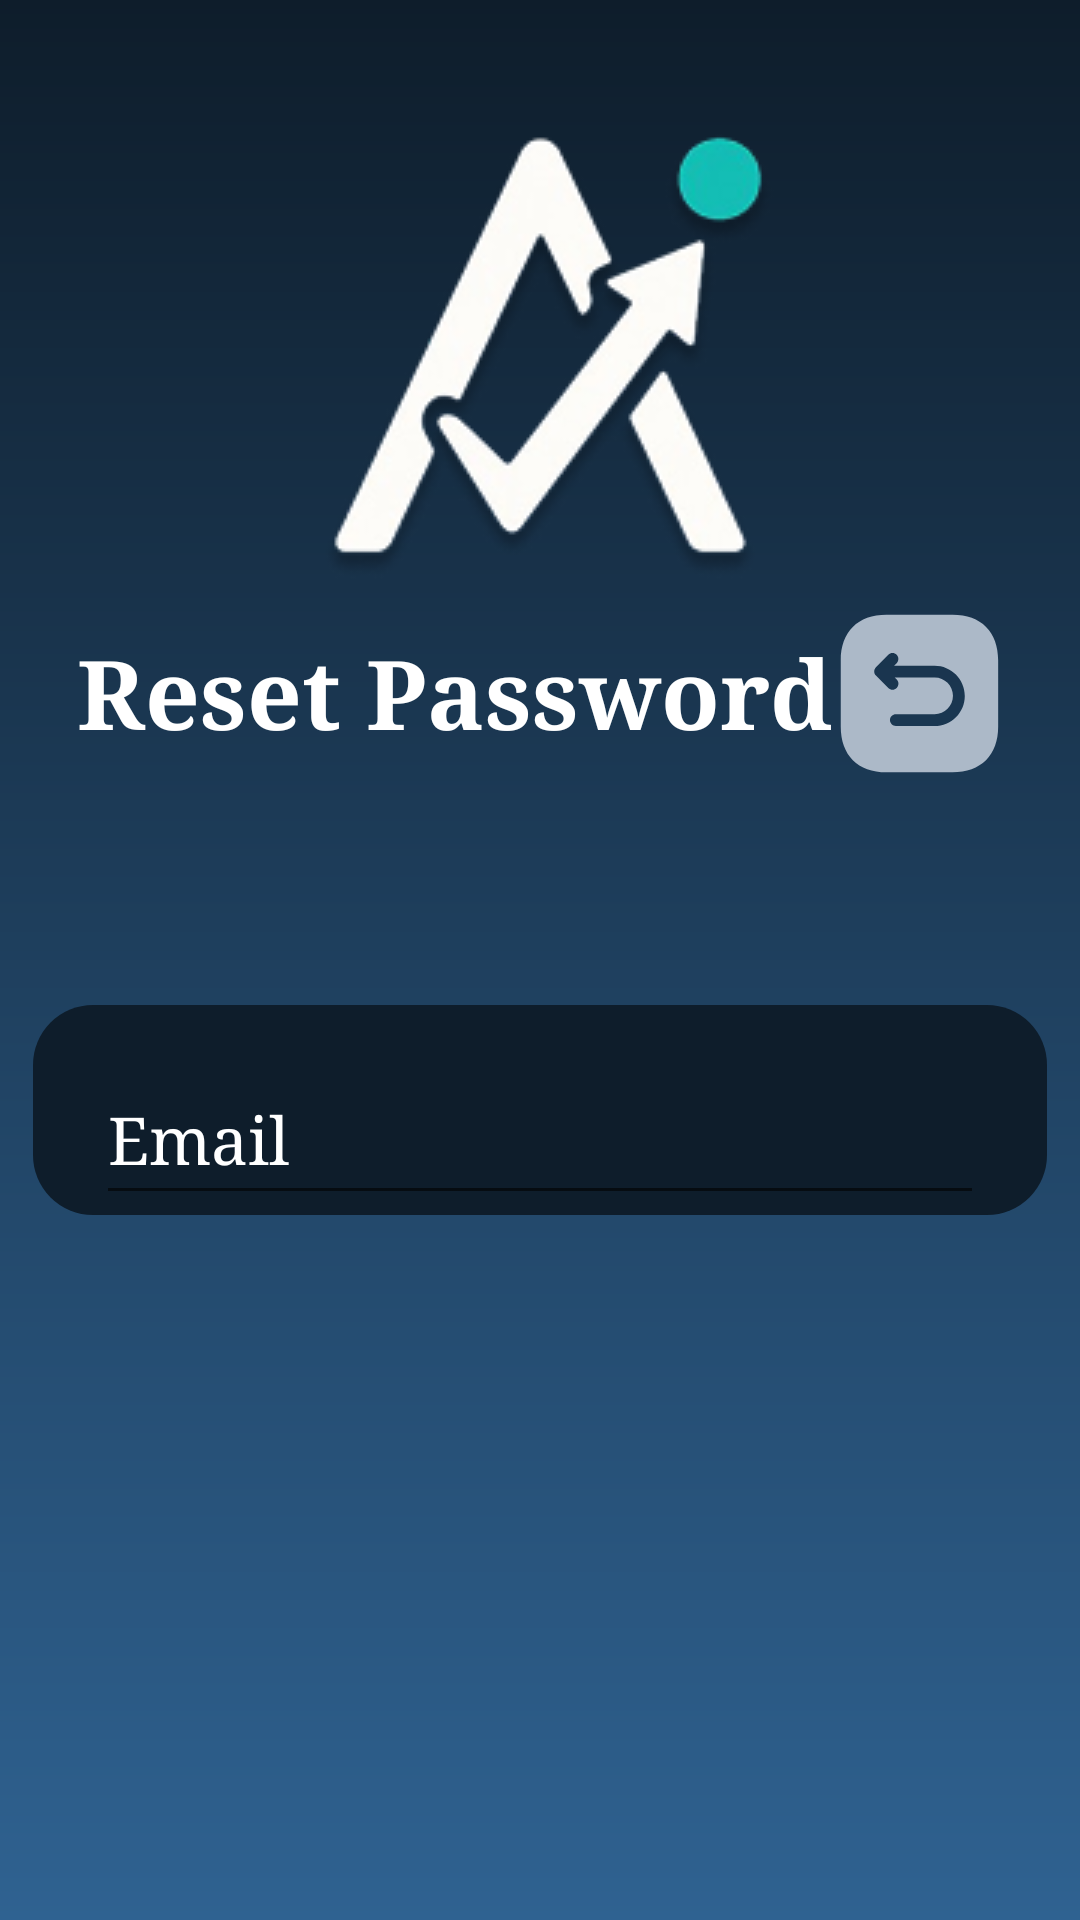

Icons on this 1080px×1920px Android screen, each with its box as (x1, y1, x2, y2):
back: (840, 614, 999, 773)
